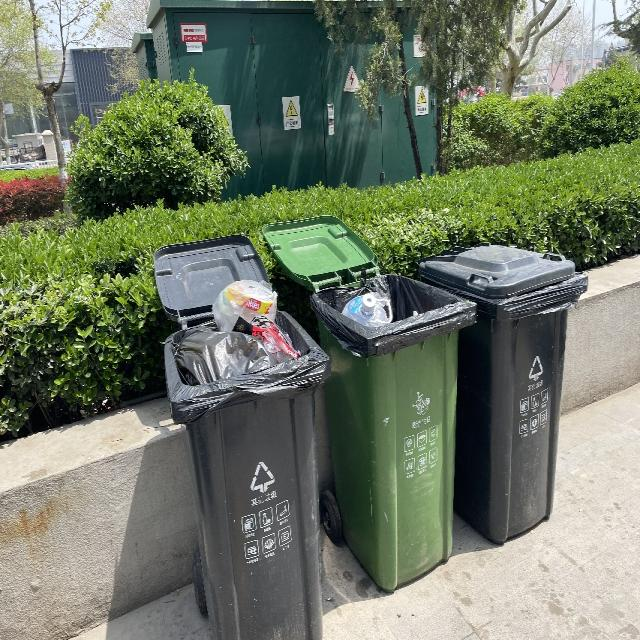garbage_bin: (417, 242, 586, 542)
overflow: (162, 277, 328, 639), (308, 273, 475, 591)
